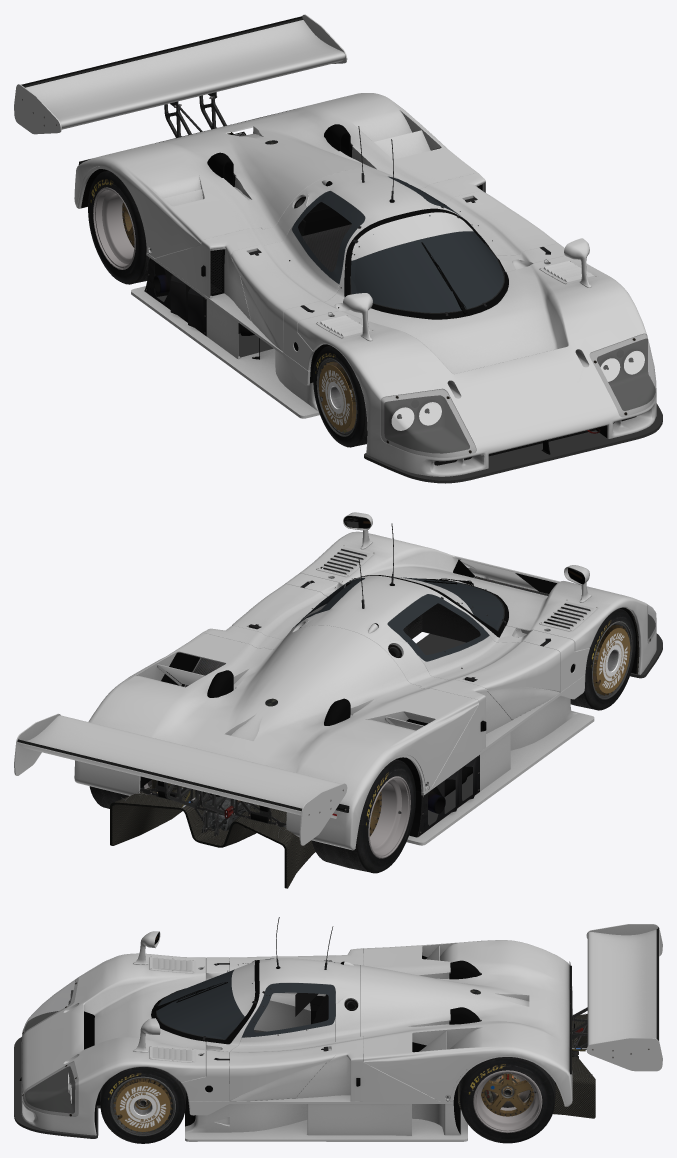
The model's file is mazda787b.glb.
3 renders of one model, top to bottom at view 1: azimuth 30°, elevation 25°; view 2: azimuth 150°, elevation 25°; view 3: azimuth 270°, elevation 25°, orthographic. The views are drawn at different scales.
Parts seen in each view (by area): view 1: Body_Livery, Body, Light_Head, Wheel_RR, Wheel_FR; view 2: Body_Livery, Body, Wheel_RR, Wheel_FR; view 3: Body_Livery, Body, Wheel_RL, Wheel_FL, Light_Head.
Boxes of the visible parts, bbox=[...] form: Body_Livery: bbox=[14, 14, 656, 476]; Body: bbox=[21, 16, 662, 483]; Light_Head: bbox=[380, 333, 656, 457]; Wheel_RR: bbox=[88, 170, 148, 284]; Wheel_FR: bbox=[313, 345, 367, 447]; Body_Livery: bbox=[14, 512, 656, 850]; Body: bbox=[17, 516, 662, 888]; Wheel_RR: bbox=[311, 759, 415, 873]; Wheel_FR: bbox=[552, 604, 635, 710]; Body_Livery: bbox=[21, 924, 662, 1141]; Body: bbox=[14, 917, 658, 1138]; Wheel_RL: bbox=[459, 1057, 555, 1143]; Wheel_FL: bbox=[100, 1067, 186, 1143]; Light_Head: bbox=[22, 977, 78, 1116].
Size of the model in its own units: 2.05 by 1.41 by 4.78.
Materials: 23 (14 with a texture image).
